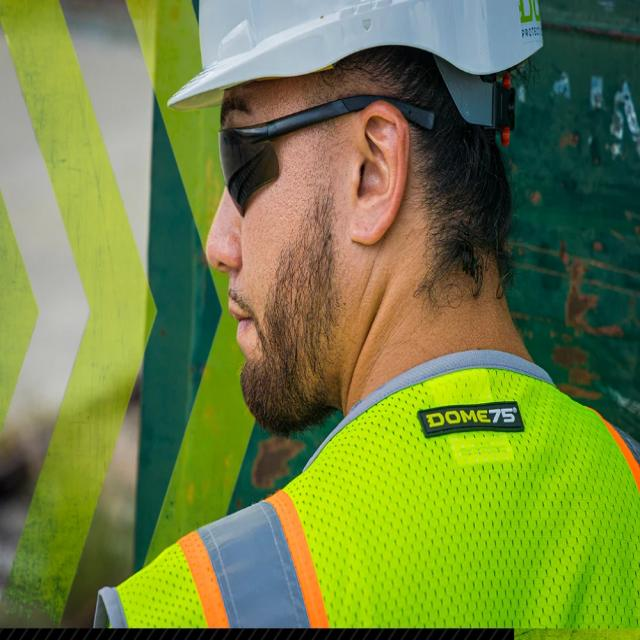Hard Hat: (164, 0, 555, 123)
Reflective Vest: (94, 364, 640, 640)
Safety Glasses: (215, 89, 442, 218)
